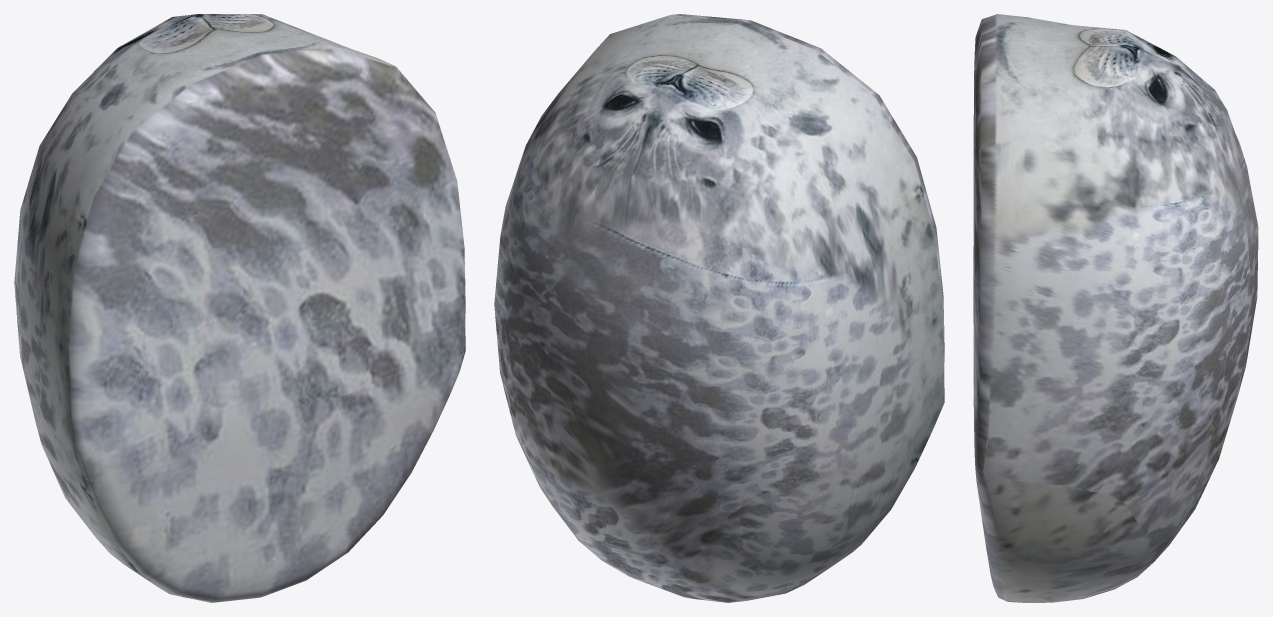
Rendered from Seal.fbx.
3 renders of one model, left to right at view 1: azimuth 30°, elevation 25°; view 2: azimuth 150°, elevation 25°; view 3: azimuth 270°, elevation 25°, orthographic.
Visible parts, largest first — view 1: Cube; view 2: Cube; view 3: Cube.
Boxes of the visible parts, bbox=[...] form: Cube: bbox=[14, 14, 465, 602]; Cube: bbox=[494, 14, 944, 602]; Cube: bbox=[973, 14, 1258, 602].
Bounding box in the file's own units: 9599 × 12710 × 5995.
1 material, 1 textured.
